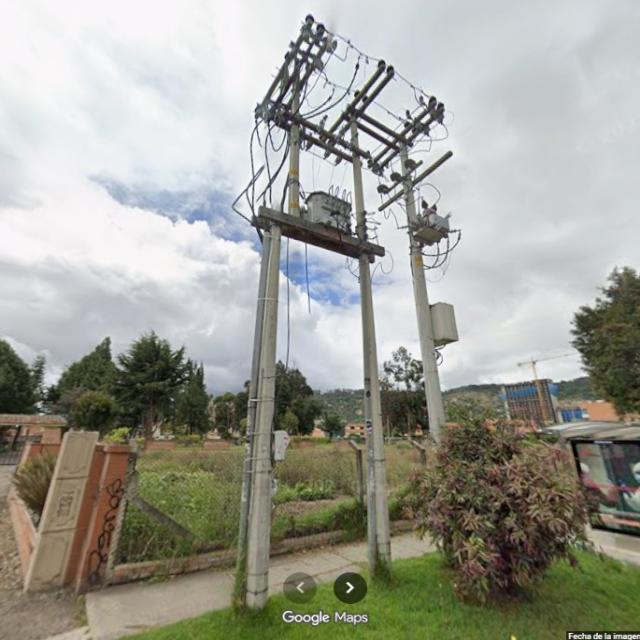Poste: (236, 15, 458, 608)
